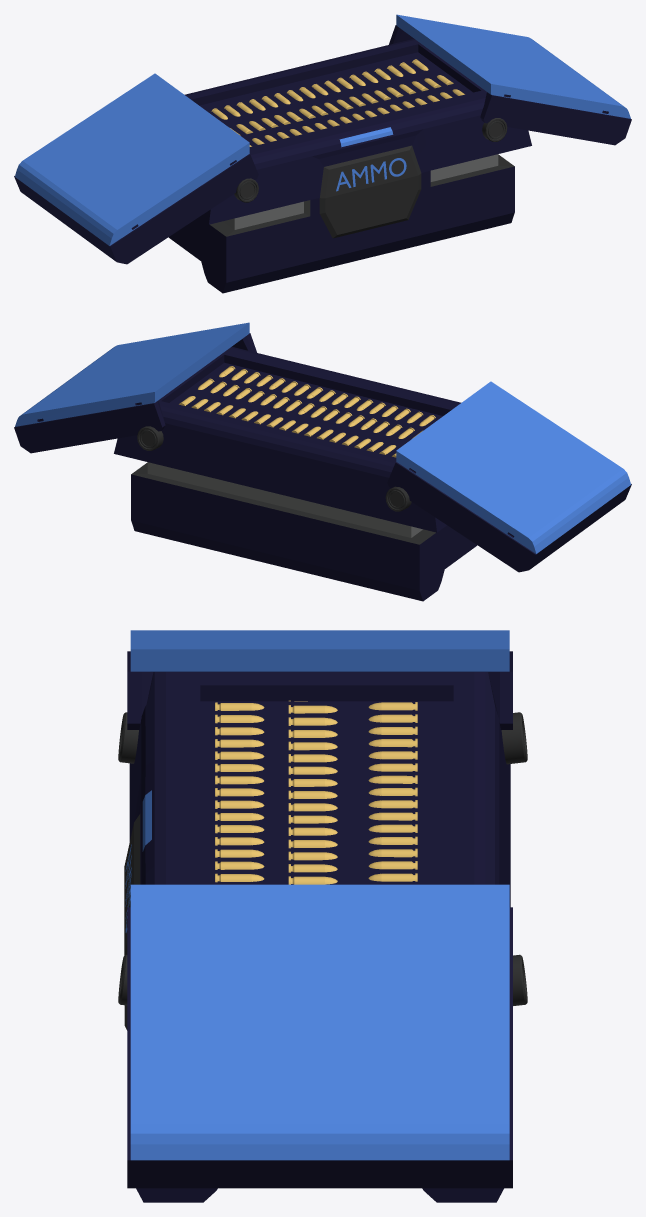
File: Pistol_Box.fbx
3 renders of one model, top to bottom at view 1: azimuth 30°, elevation 25°; view 2: azimuth 150°, elevation 25°; view 3: azimuth 270°, elevation 25°, orthographic. The views are drawn at different scales.
Visible parts, largest first — view 1: Boite.002, Porte.002, Sphere.001, Sphere.002, Sphere, Roullis.002, Text_Ammo.004; view 2: Boite.002, Porte.002, Sphere.002, Sphere, Sphere.001, Rouillis_2.002; view 3: Porte.002, Boite.002, Sphere.002, Sphere.001, Sphere, Rouillis_2.002, Roullis.002.
Boxes of the visible parts, x1,y1,x2,y2 form: Boite.002: [168, 38, 531, 293]; Porte.002: [14, 14, 631, 264]; Sphere.001: [211, 59, 428, 119]; Sphere.002: [230, 75, 453, 135]; Sphere: [249, 89, 464, 146]; Roullis.002: [234, 118, 507, 202]; Text_Ammo.004: [336, 158, 406, 191]; Boite.002: [114, 346, 477, 601]; Porte.002: [14, 322, 631, 572]; Sphere.002: [198, 378, 422, 438]; Sphere: [219, 366, 435, 426]; Sphere.001: [179, 396, 396, 457]; Rouillis_2.002: [137, 426, 411, 511]; Porte.002: [127, 630, 512, 1188]; Boite.002: [124, 672, 510, 1202]; Sphere.002: [288, 700, 337, 884]; Sphere.001: [368, 702, 417, 881]; Sphere: [215, 702, 264, 882]; Rouillis_2.002: [501, 712, 527, 1005]; Roullis.002: [118, 712, 138, 1005].
Bounding box in the file's own units: 63.26 × 17.08 × 21.5.
